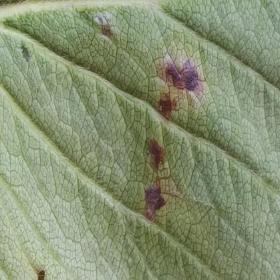Angular Leafspot: (15, 9, 216, 230)
